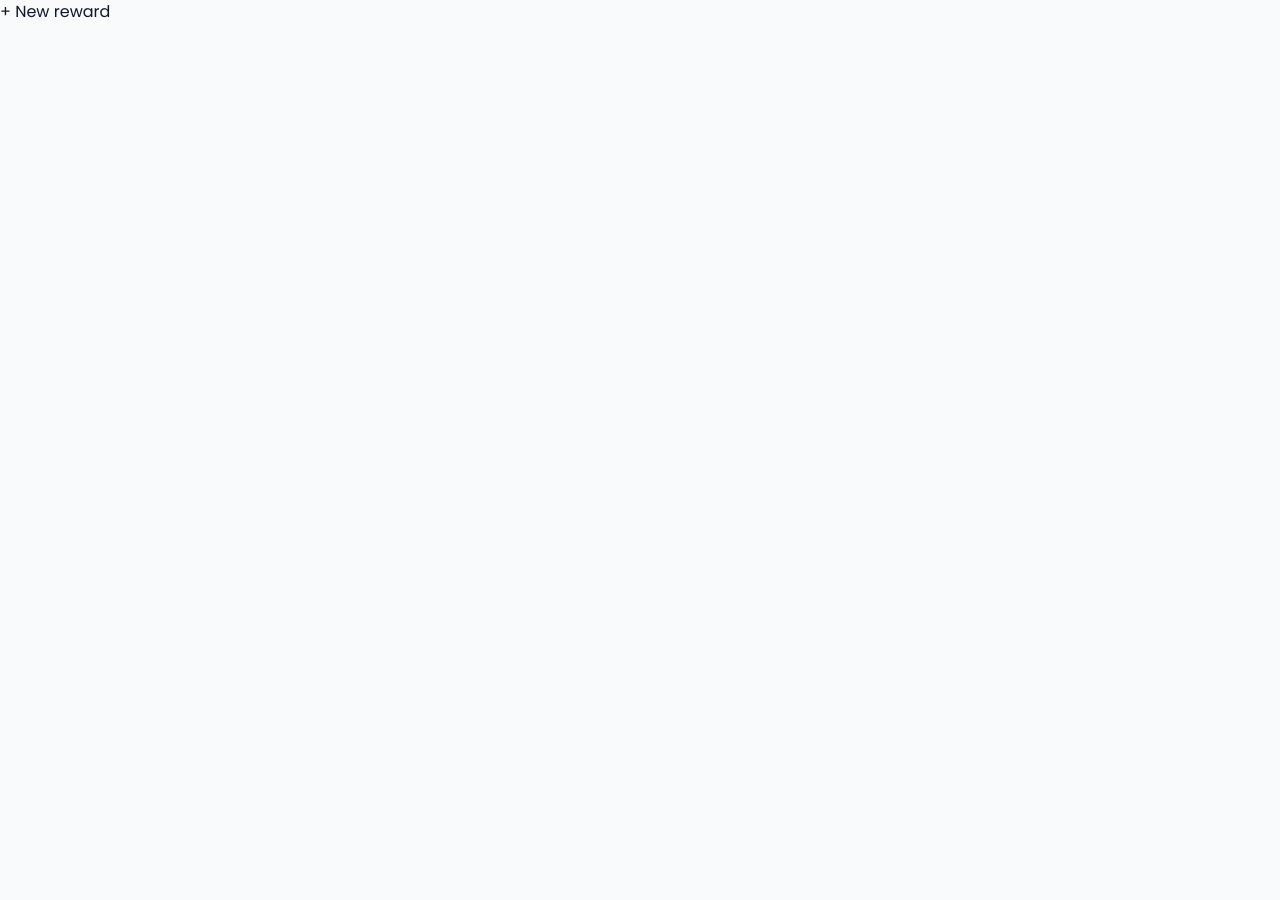
Scenario: RewardFormDialog › create mode: defaults to points type, showing pointsCost and not rewardValue
Step 1. Click the button "+ New reward" → (55, 12), box [0, 0, 110, 24]
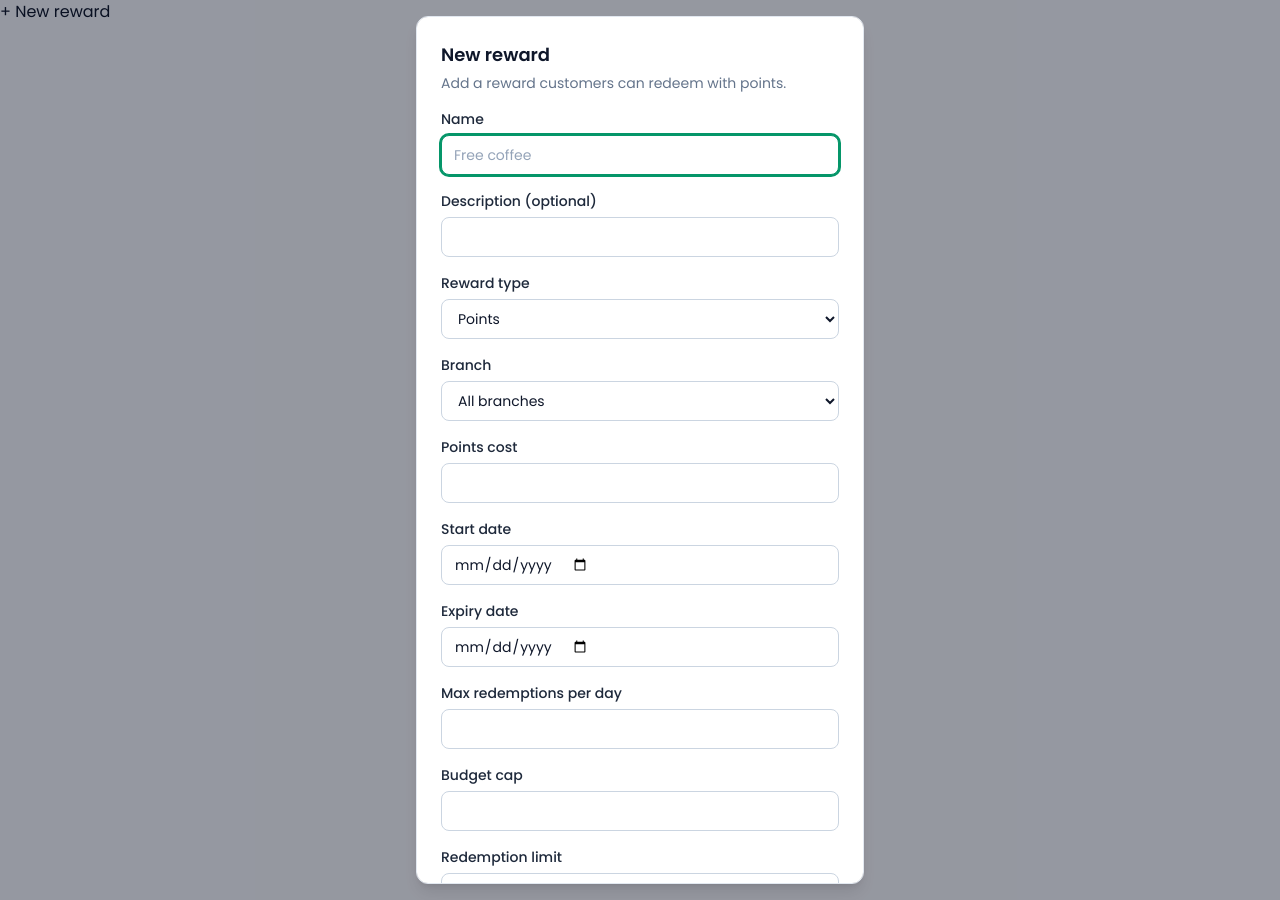
Expected: the number field labelled "Points cost" is shown, [441, 463, 839, 503]
